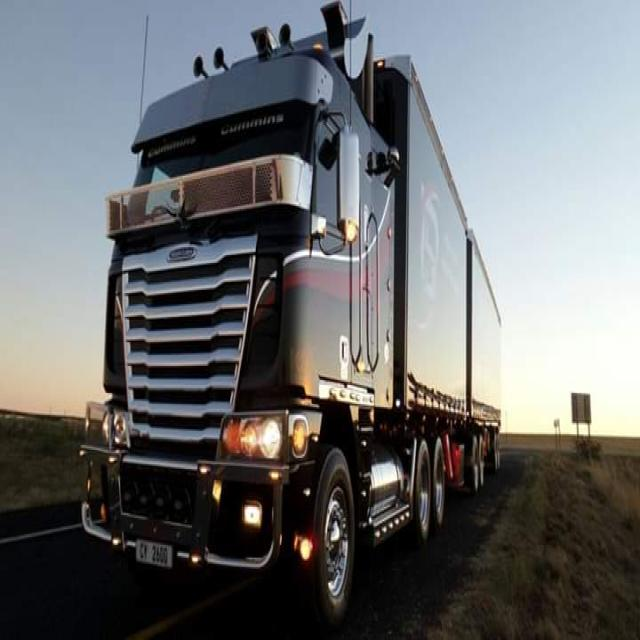Heavy Duty Truck: (78, 16, 502, 634)
